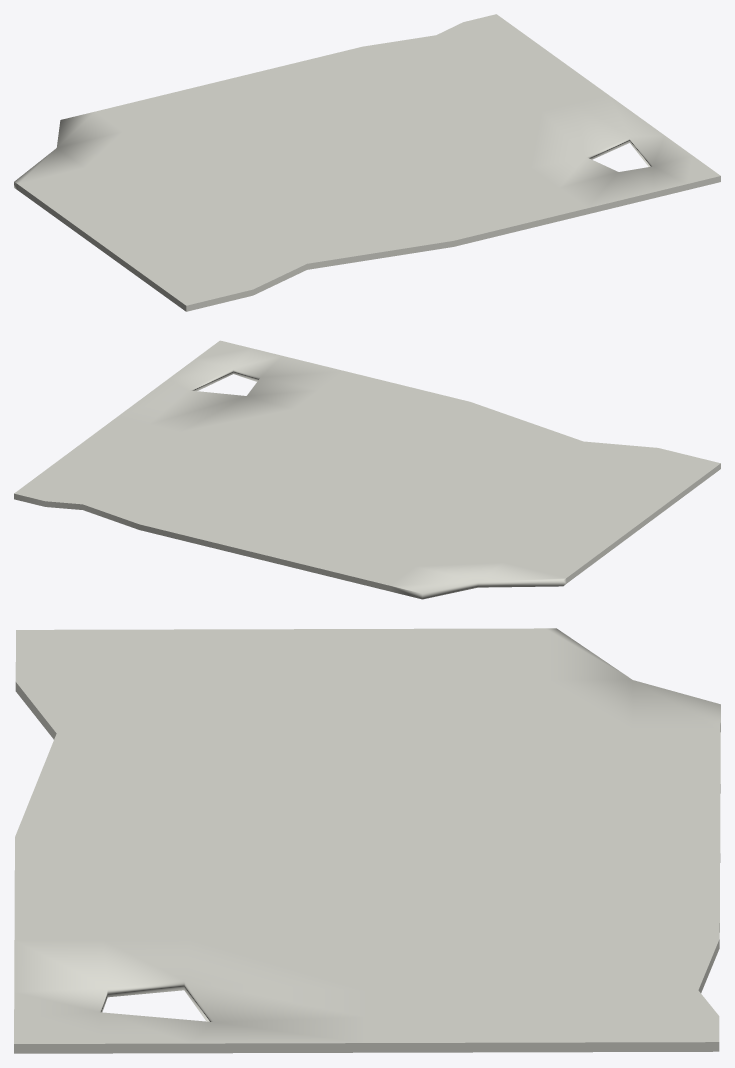
The model's file is Letter1.fbx.
3 renders of one model, top to bottom at view 1: azimuth 30°, elevation 25°; view 2: azimuth 150°, elevation 25°; view 3: azimuth 270°, elevation 25°, orthographic. The views are drawn at different scales.
Parts seen in each view (by area): view 1: TearedUpLetter_01; view 2: TearedUpLetter_01; view 3: TearedUpLetter_01.
Part boxes in pixels (left/top/right/bottom): TearedUpLetter_01: left=14, top=14, right=720, bottom=311; TearedUpLetter_01: left=14, top=340, right=720, bottom=599; TearedUpLetter_01: left=14, top=628, right=720, bottom=1053.
Bounding box in the file's own units: 30.3 × 0.3292 × 21.77.
